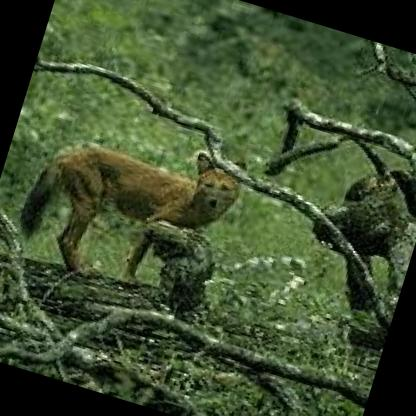dhole: (4, 102, 250, 306)
